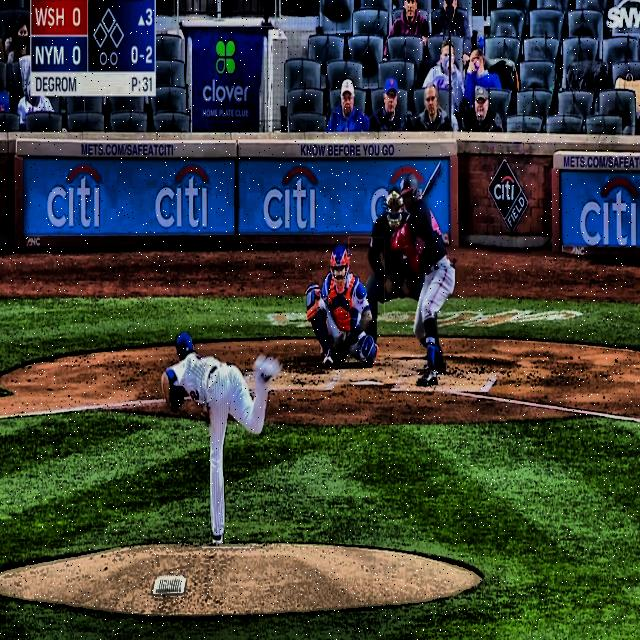baseball: (318, 299, 324, 310)
